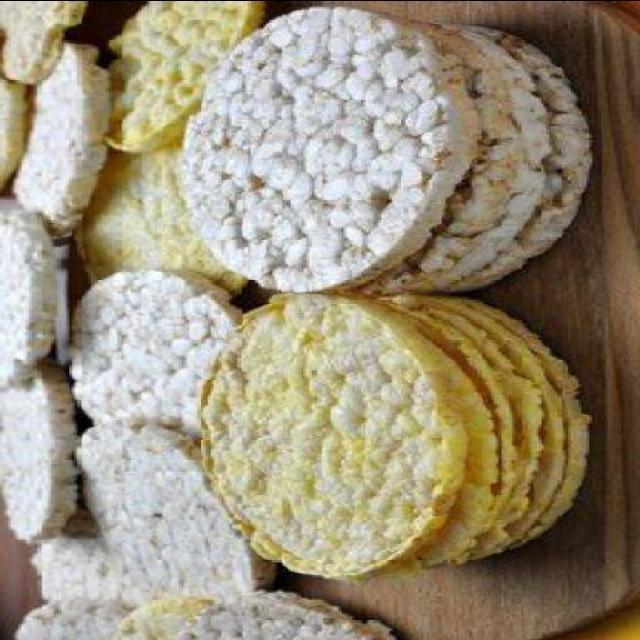Gallette di riso packaged: (180, 2, 474, 306), (194, 290, 472, 587), (67, 258, 238, 438), (89, 419, 242, 610), (2, 366, 64, 558)
